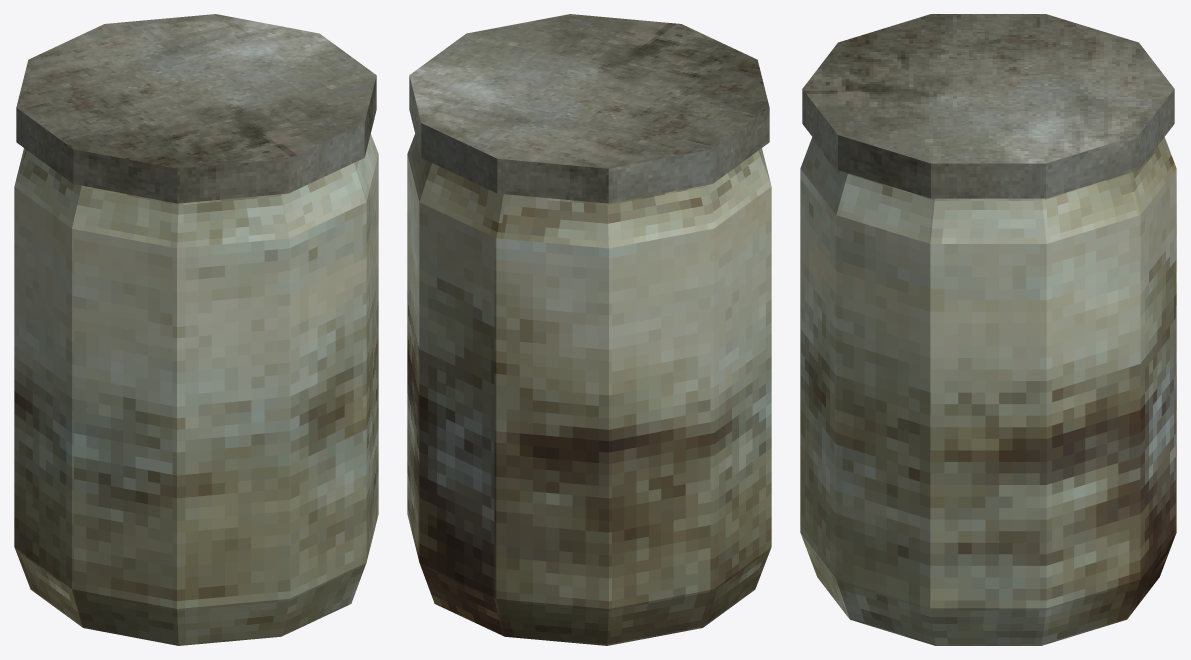
File: jar_1.fbx
The picture shows the model from 3 angles, left to right: view 1: azimuth 30°, elevation 25°; view 2: azimuth 150°, elevation 25°; view 3: azimuth 270°, elevation 25°; orthographic projection.
Visible parts, largest first — view 1: Cylinder.002; view 2: Cylinder.002; view 3: Cylinder.002.
Part boxes in pixels (x1,y1,x2,y2): Cylinder.002: (14,14,378,645); Cylinder.002: (407,14,771,645); Cylinder.002: (800,14,1176,645).
Bounding box in the file's own units: 42.99 × 64.75 × 45.21.
